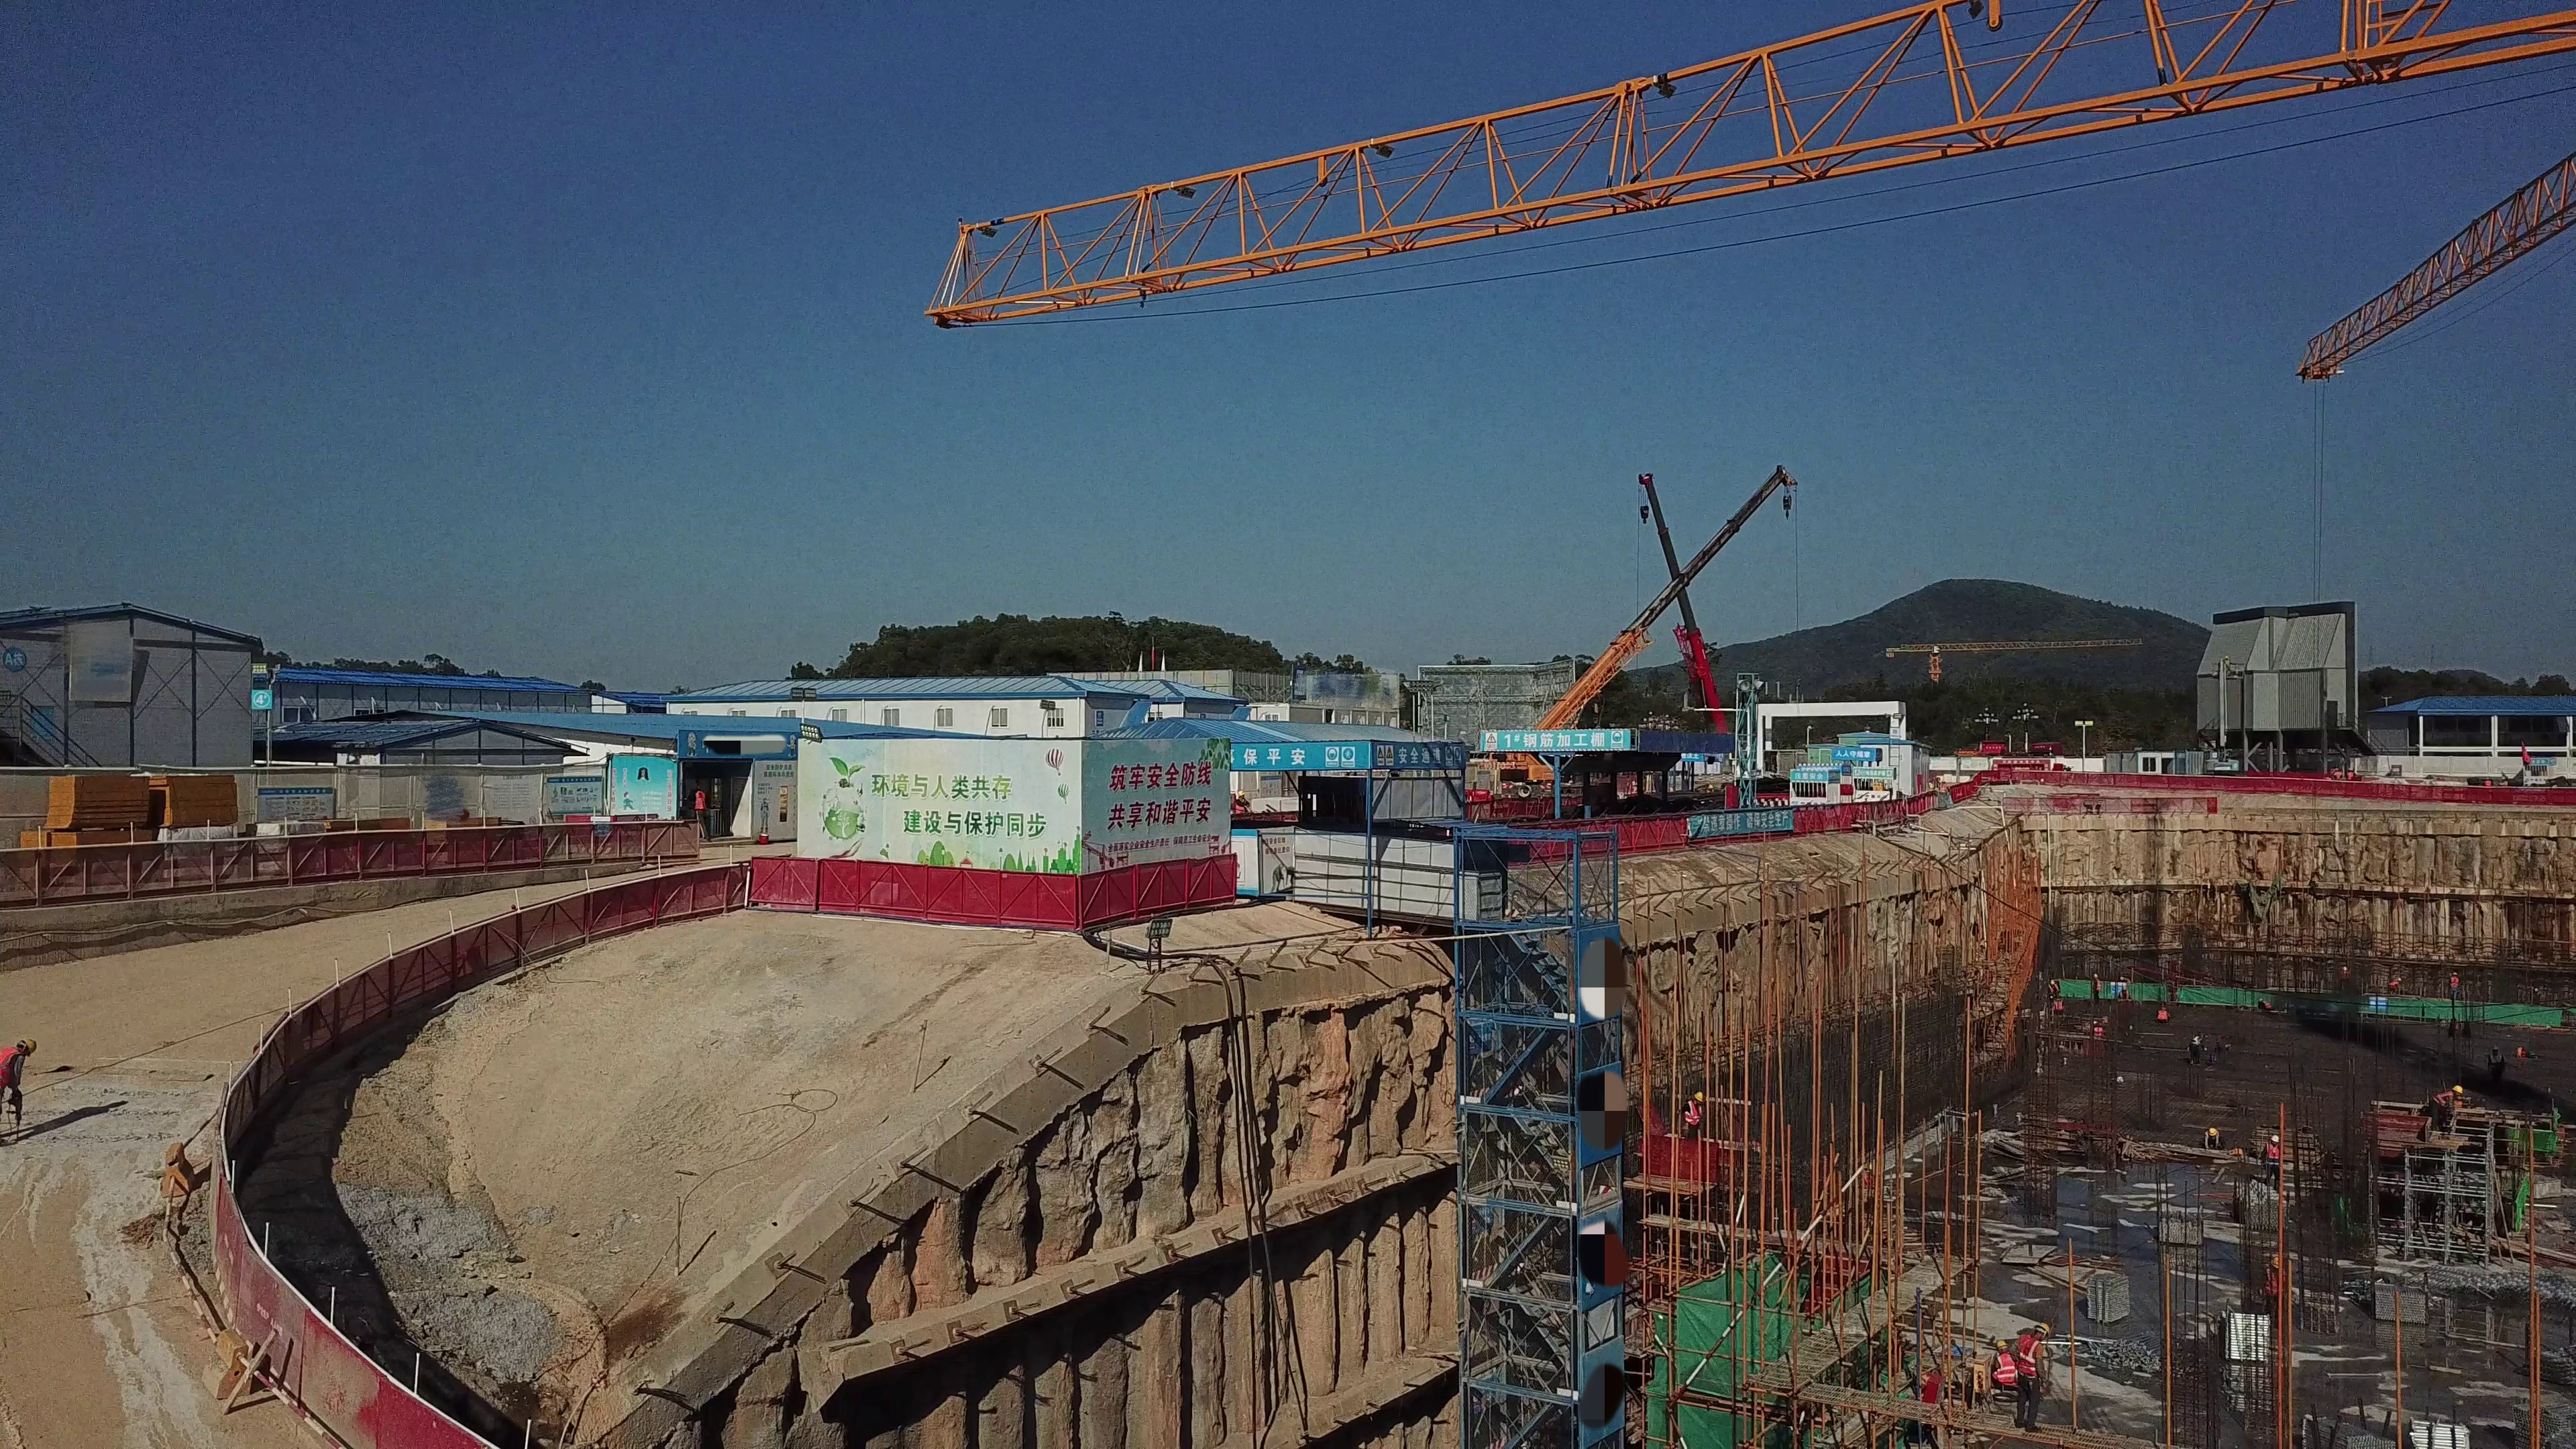fence: (332, 888, 755, 1032), (1, 827, 708, 908), (1988, 765, 2576, 814), (755, 862, 1106, 922), (1073, 850, 1247, 917), (1525, 804, 1680, 851), (1780, 792, 1913, 827)
helmet: (2035, 1322, 2048, 1334), (1995, 1338, 2008, 1350), (2451, 1083, 2463, 1095), (2269, 1134, 2278, 1144), (2204, 1128, 2215, 1136)
person: (2007, 1330, 2050, 1429), (1985, 1336, 2014, 1400), (2426, 1085, 2464, 1131), (2258, 1136, 2290, 1189), (2483, 1046, 2506, 1091), (2203, 1124, 2224, 1146)
scaffold: (2507, 1396, 2568, 1449), (2084, 1270, 2138, 1328), (2219, 1307, 2264, 1368), (2371, 1284, 2430, 1328), (2159, 1214, 2205, 1257), (2412, 1415, 2463, 1449)
slogan: (802, 743, 1048, 851), (1091, 743, 1214, 871), (1199, 729, 1458, 772), (1479, 726, 1629, 762), (1686, 805, 1801, 843)
vest: (2010, 1336, 2045, 1379), (1992, 1354, 2015, 1386), (2265, 1144, 2279, 1167), (2433, 1091, 2451, 1107)
